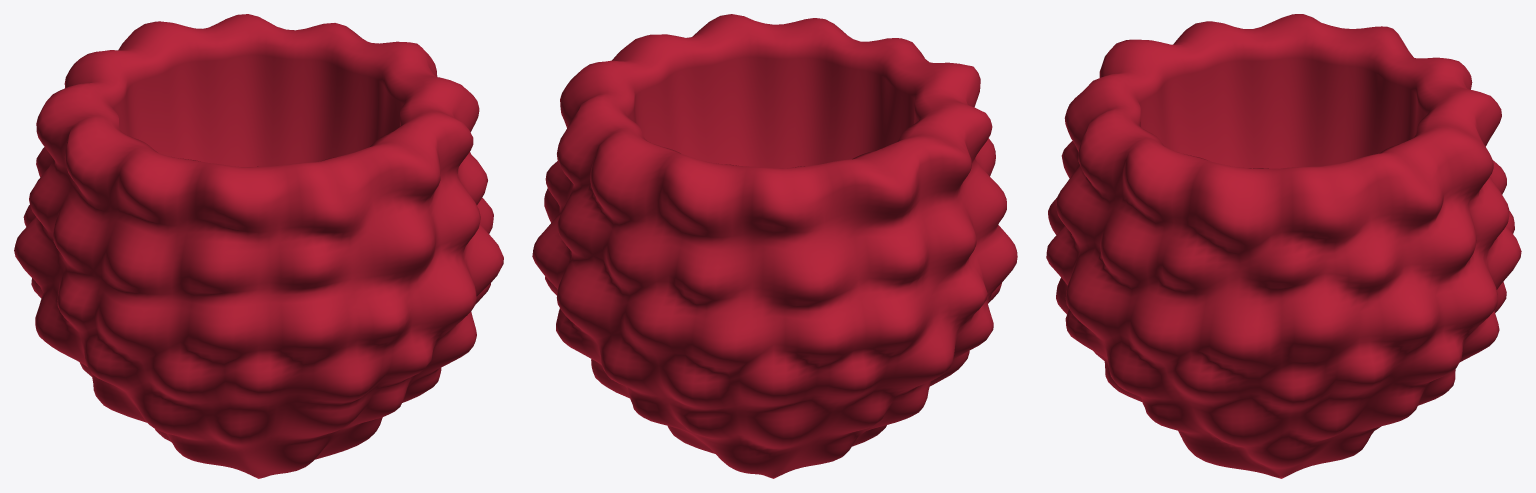
The picture shows the model from 3 angles, left to right: view 1: azimuth 30°, elevation 25°; view 2: azimuth 150°, elevation 25°; view 3: azimuth 270°, elevation 25°; orthographic projection.
Visible parts, largest first — view 1: NEW302_Raspberry_LOD0; view 2: NEW302_Raspberry_LOD0; view 3: NEW302_Raspberry_LOD0.
Boxes of the visible parts, box(x1,y1,x2,y2) form: NEW302_Raspberry_LOD0: box(14, 14, 503, 478); NEW302_Raspberry_LOD0: box(532, 14, 1017, 478); NEW302_Raspberry_LOD0: box(1046, 14, 1521, 478).
Bounding box in the file's own units: 0.0257 × 0.0229 × 0.0256.
